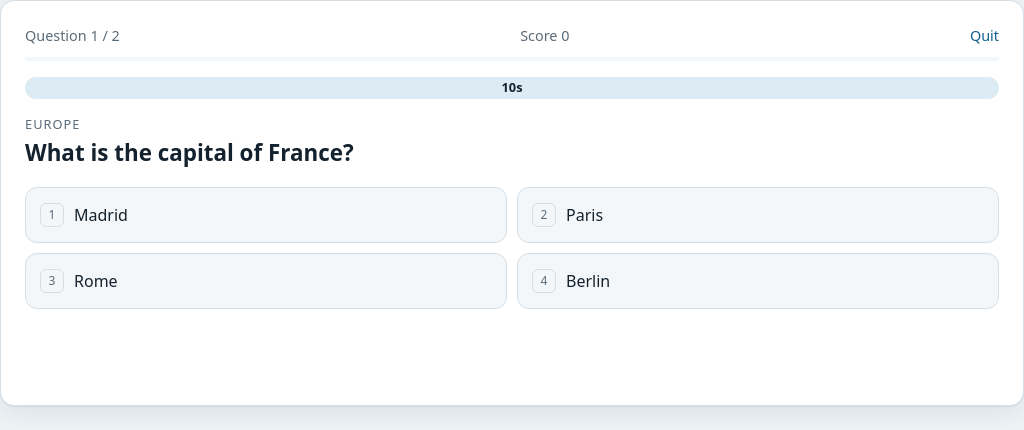
it: QuizScreen › waits on the answer until the player moves on
The width and height of the screenshot is (1024, 430).
Click the button "1 Madrid".
click(101, 215)  # box [25, 187, 507, 243]
Wait 60000 ms
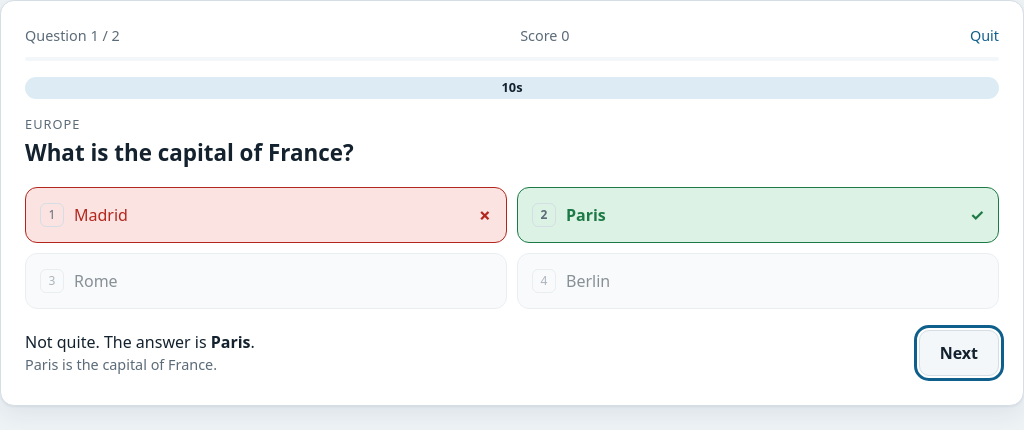
Expected: the heading "What is the capital of France?" is shown, [25, 137, 354, 168]
Now the text "Not quite. The answer is Paris." is shown, box [25, 330, 255, 354]
